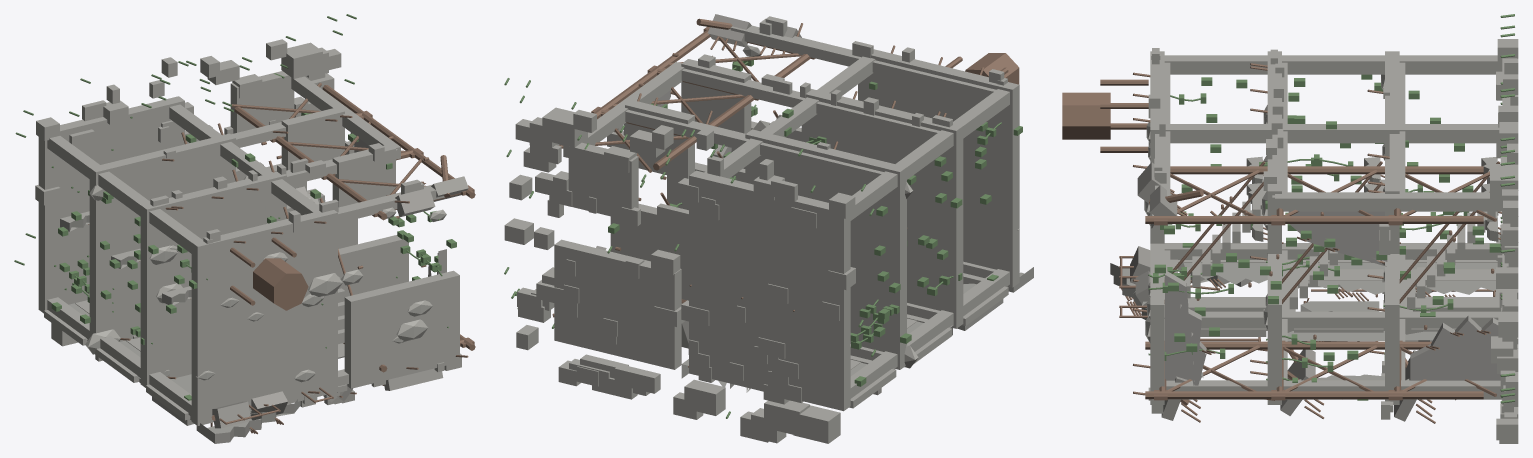
File: ruined_building_v2.glb
The picture shows the model from 3 angles, left to right: view 1: azimuth 30°, elevation 25°; view 2: azimuth 150°, elevation 25°; view 3: azimuth 270°, elevation 25°; orthographic projection. The views are drawn at different scales.
Parts seen in each view (by area): view 1: slab_3_0, slab_2_0, slab_1_0, slab_0_0, slab_3_1, slab_2_1, slab_1_2, slab_2_2, slab_0_2, tank_body_vertical, roof_broken_parapet_front, roof_collapse_ground_rubble_2 (+31 smaller); view 2: slab_0_0, slab_3_0, slab_2_0, slab_1_0, slab_0_1, slab_0_2, beam_2_3, beam_1_3, beam_0_3, slab_1_1, slab_2_2, slab_1_2 (+29 smaller); view 3: side_wall_ground_remnant, side_wall_top_spandrel, steel_4.5_-2.8, steel_4.5_2.8, side_wall_middle_remnant, steel_1.1_2.8, tank_body_vertical, column_1_3.7_3, slab_1_1, slab_3_1, column_0_3.7_3, column_1_-5.7_3 (+49 smaller).
Boxes of the visible parts, x1,y1,x2,y2 form: slab_3_0: [191, 210, 337, 425]; slab_2_0: [140, 171, 286, 387]; slab_1_0: [89, 133, 235, 341]; slab_0_0: [38, 96, 184, 313]; slab_3_1: [344, 270, 459, 388]; slab_2_1: [338, 235, 408, 296]; slab_1_2: [281, 107, 344, 170]; slab_2_2: [332, 144, 395, 207]; slab_0_2: [230, 71, 294, 133]; tank_body_vertical: [253, 258, 308, 310]; roof_broken_parapet_front: [196, 399, 300, 443]; roof_collapse_ground_rubble_2: [281, 42, 322, 78]; slab_0_0: [689, 170, 850, 411]; slab_3_0: [858, 49, 1019, 287]; slab_2_0: [801, 89, 963, 328]; slab_1_0: [745, 129, 906, 369]; slab_0_1: [554, 239, 681, 369]; slab_0_2: [568, 142, 638, 218]; beam_2_3: [730, 25, 996, 99]; beam_1_3: [681, 68, 939, 140]; beam_0_3: [625, 109, 883, 181]; slab_1_1: [610, 203, 688, 300]; slab_2_2: [681, 59, 751, 133]; slab_1_2: [625, 100, 694, 178]; side_wall_ground_remnant: [1410, 315, 1500, 380]; side_wall_top_spandrel: [1165, 270, 1206, 385]; steel_4.5_-2.8: [1145, 391, 1483, 399]; steel_4.5_2.8: [1145, 216, 1483, 223]; side_wall_middle_remnant: [1288, 211, 1387, 266]; steel_1.1_2.8: [1146, 166, 1483, 174]; tank_body_vertical: [1062, 92, 1110, 139]; column_1_3.7_3: [1275, 192, 1392, 211]; slab_1_1: [1385, 254, 1399, 404]; slab_3_1: [1150, 243, 1164, 404]; column_0_3.7_3: [1392, 192, 1501, 211]; column_1_-5.7_3: [1282, 55, 1384, 74].
Size of the model in its own units: 12.98 by 9.89 by 13.21.
